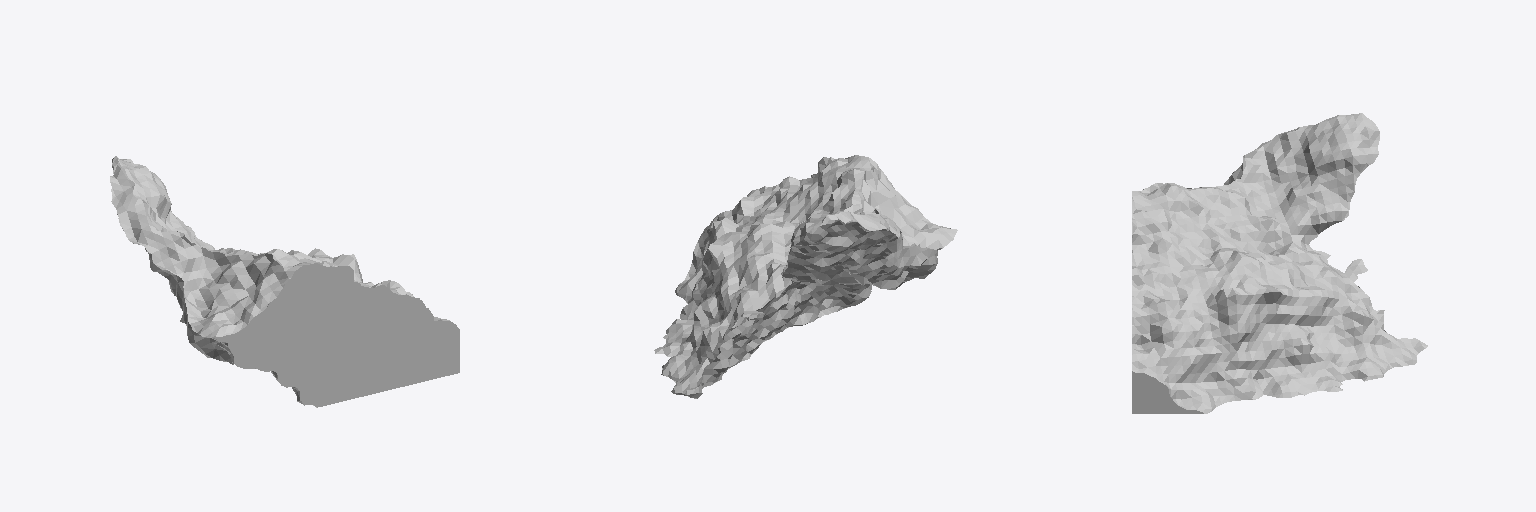
File: Cube_shard.010.obj
3 renders of one model, left to right at view 1: azimuth 30°, elevation 25°; view 2: azimuth 150°, elevation 25°; view 3: azimuth 270°, elevation 25°, orthographic.
Parts seen in each view (by area): view 1: Cube_shard.010_Cube_shard.150; view 2: Cube_shard.010_Cube_shard.150; view 3: Cube_shard.010_Cube_shard.150.
Boxes of the visible parts, <box> form: Cube_shard.010_Cube_shard.150: <box>110,156,459,407</box>; Cube_shard.010_Cube_shard.150: <box>654,155,957,398</box>; Cube_shard.010_Cube_shard.150: <box>1132,113,1427,413</box>.
Bounding box in the file's own units: 1.56 × 1.08 × 1.53.